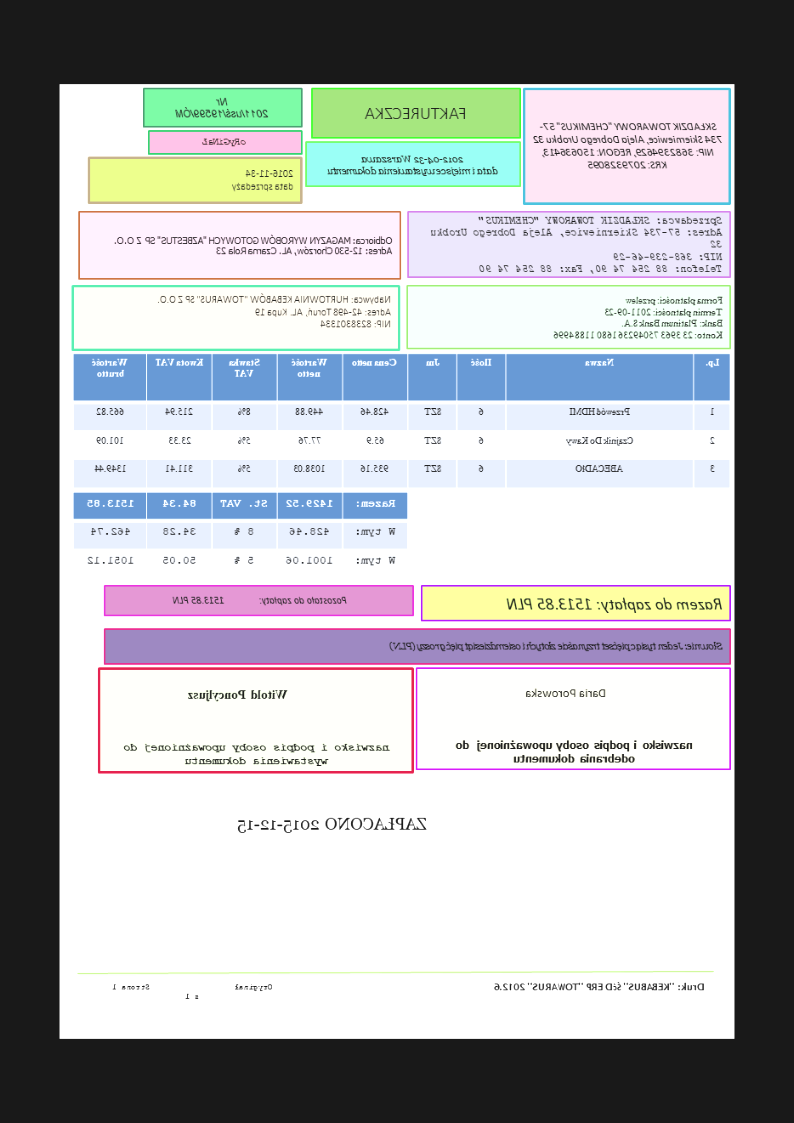Table: (72, 352, 732, 490), (71, 491, 411, 578)
TextBox: (428, 212, 725, 275), (531, 118, 724, 173), (156, 292, 394, 329), (551, 292, 727, 341), (123, 740, 394, 768), (112, 234, 394, 258), (453, 739, 697, 766), (388, 636, 726, 655), (324, 153, 501, 178), (505, 592, 726, 612), (236, 814, 431, 836), (490, 977, 708, 995), (108, 982, 275, 1001), (173, 94, 272, 121), (171, 593, 351, 606), (361, 104, 470, 123), (184, 686, 291, 703), (230, 167, 296, 193), (522, 683, 610, 700), (199, 134, 249, 147)
